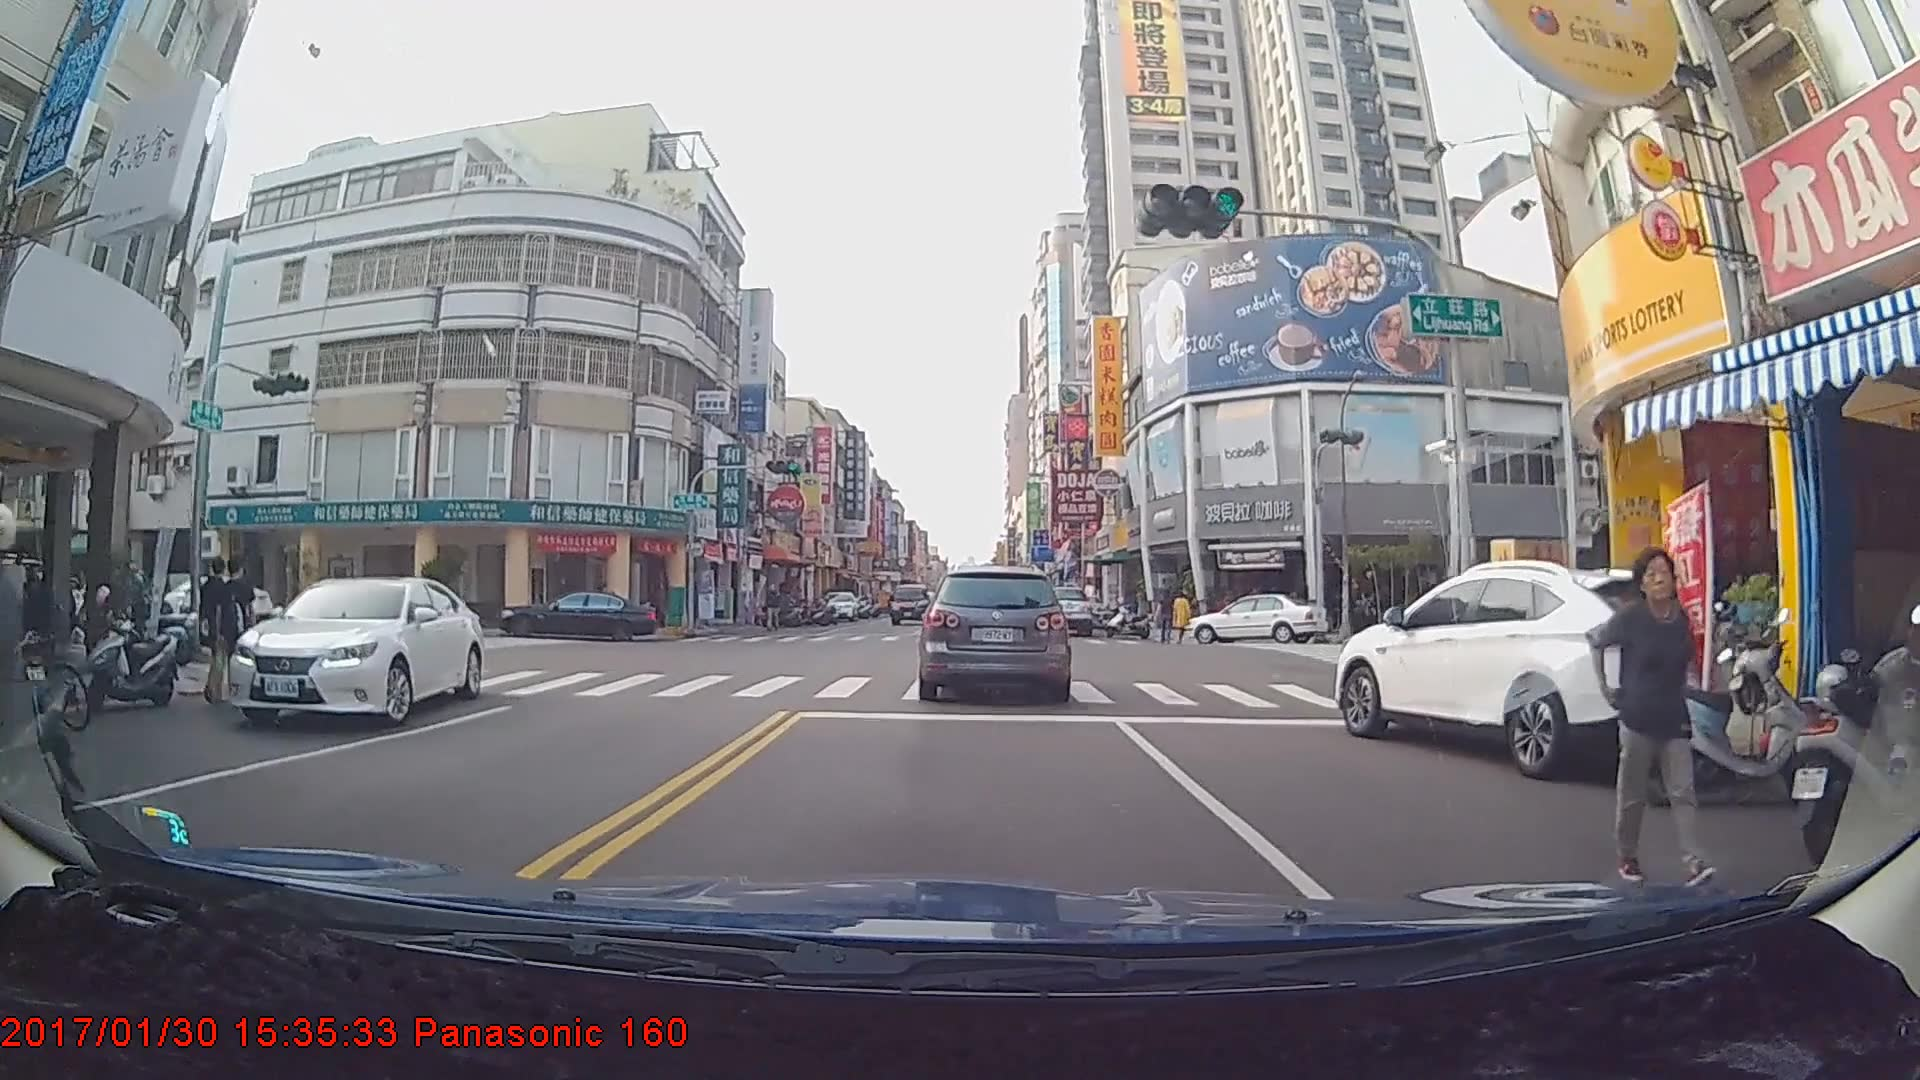pedestrian: (1596, 547, 1725, 883), (209, 557, 261, 704), (198, 561, 233, 701), (1157, 589, 1179, 645), (1173, 588, 1195, 646), (764, 584, 784, 631)
vehicle: (1333, 556, 1732, 782), (214, 574, 477, 729), (922, 563, 1066, 698), (496, 588, 657, 642), (1184, 590, 1328, 643), (1031, 584, 1092, 637), (889, 581, 931, 624), (816, 590, 859, 622)
